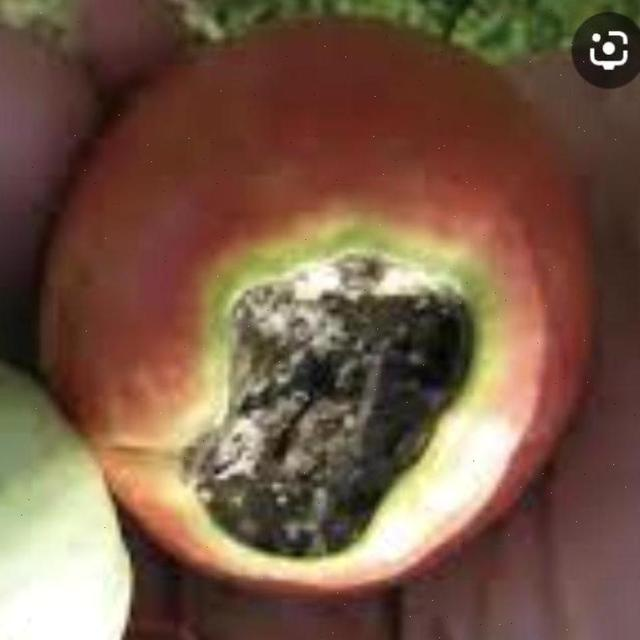Blossom End Rot Fruit: (118, 155, 334, 380)
